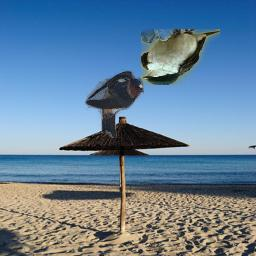Swallow: (142, 29, 221, 85), (86, 70, 145, 139)
